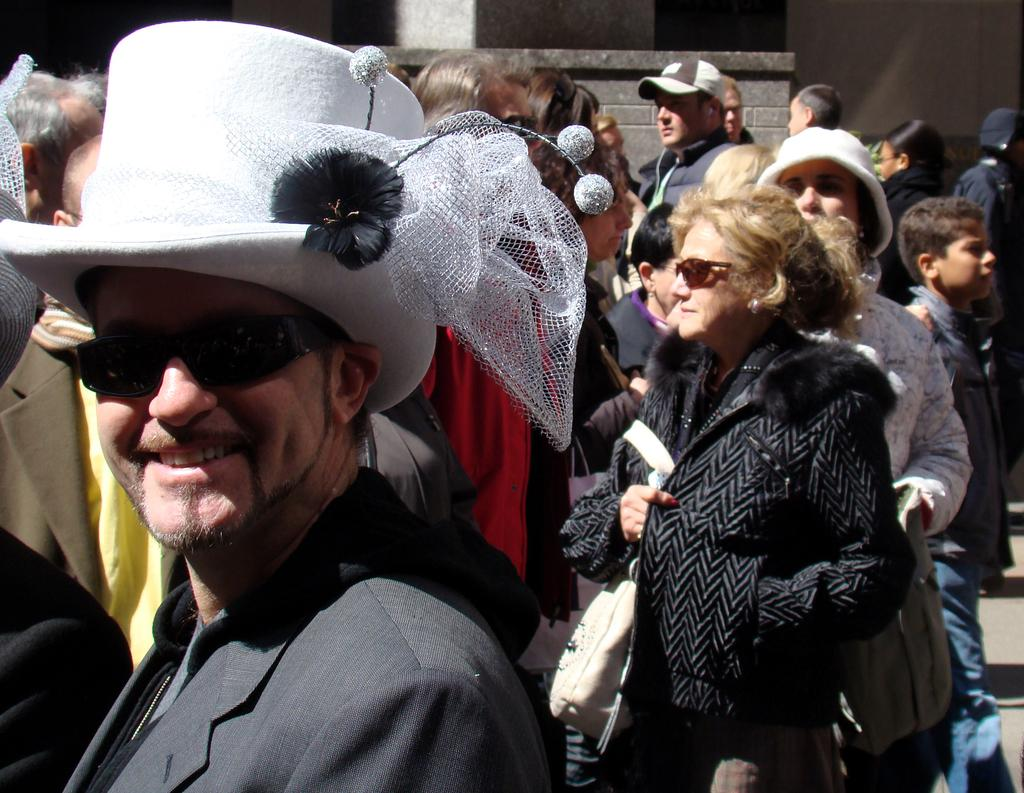Hat: (0, 21, 614, 440), (754, 126, 888, 260), (635, 54, 722, 106)
